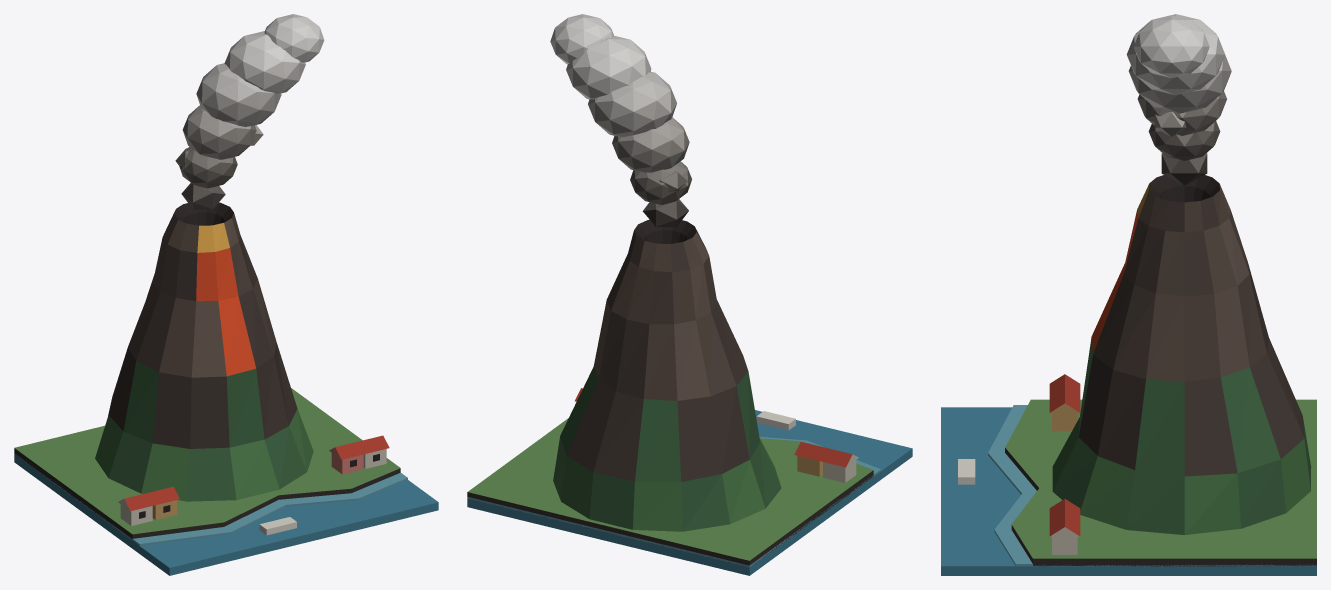
Rendered from volcanGoma.glb.
3 renders of one model, left to right at view 1: azimuth 30°, elevation 25°; view 2: azimuth 150°, elevation 25°; view 3: azimuth 270°, elevation 25°, orthographic. The views are drawn at different scales.
Visible parts, largest first — view 1: volcanGoma; view 2: volcanGoma; view 3: volcanGoma.
Boxes of the visible parts, x1,y1,x2,y2 form: volcanGoma: [14, 14, 438, 575]; volcanGoma: [467, 14, 912, 575]; volcanGoma: [941, 14, 1316, 575].
Size of the model in its own units: 1.76 by 2.72 by 1.76.
